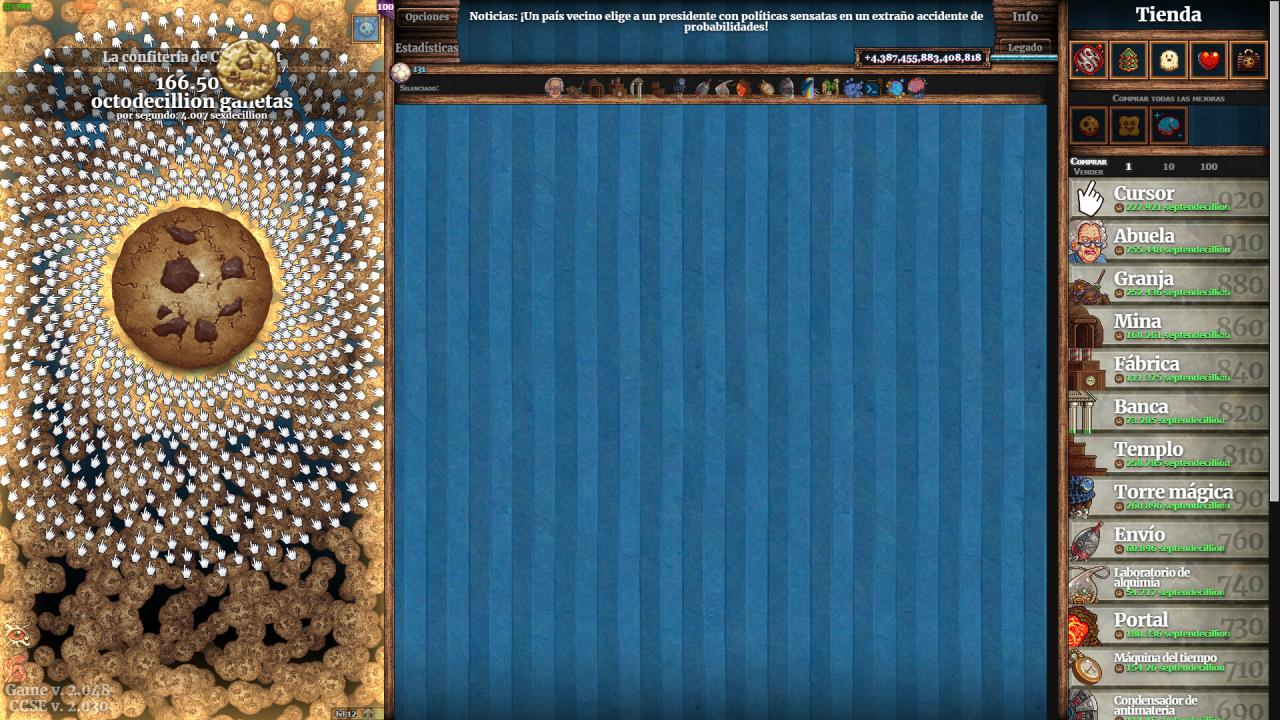GoldenCookie: (215, 40, 279, 102)
